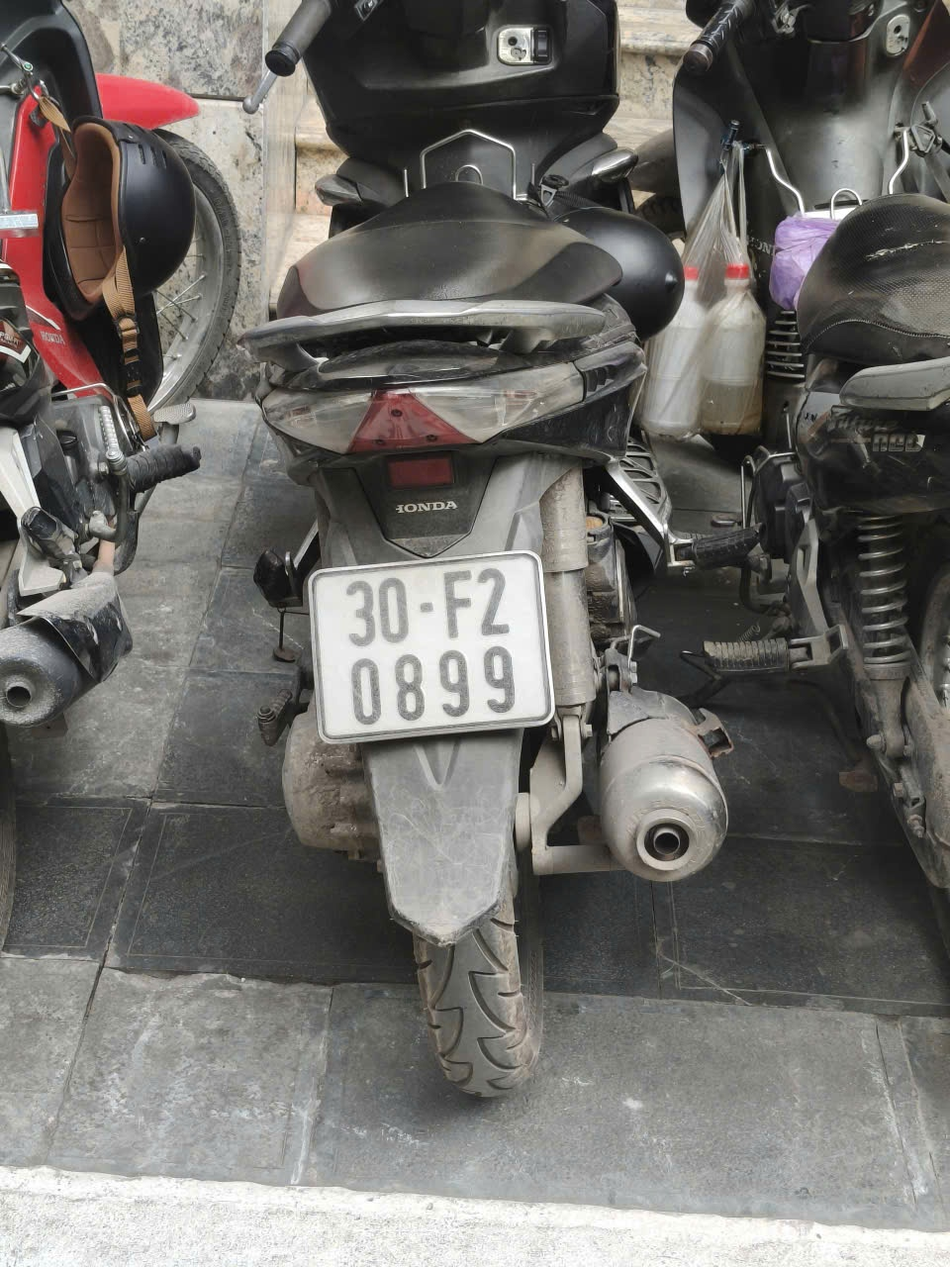plate: (110, 784, 273, 822)
